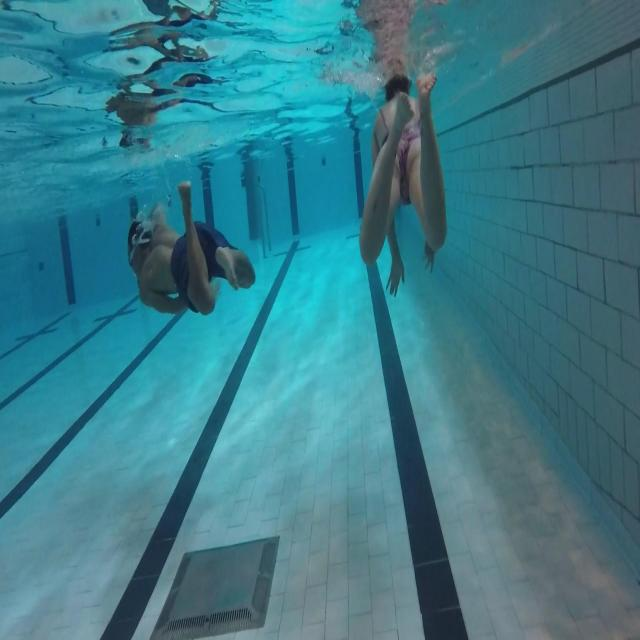human: (359, 70, 447, 298), (126, 162, 256, 316)
